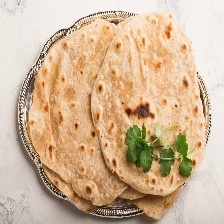roti: (16, 6, 211, 222)
